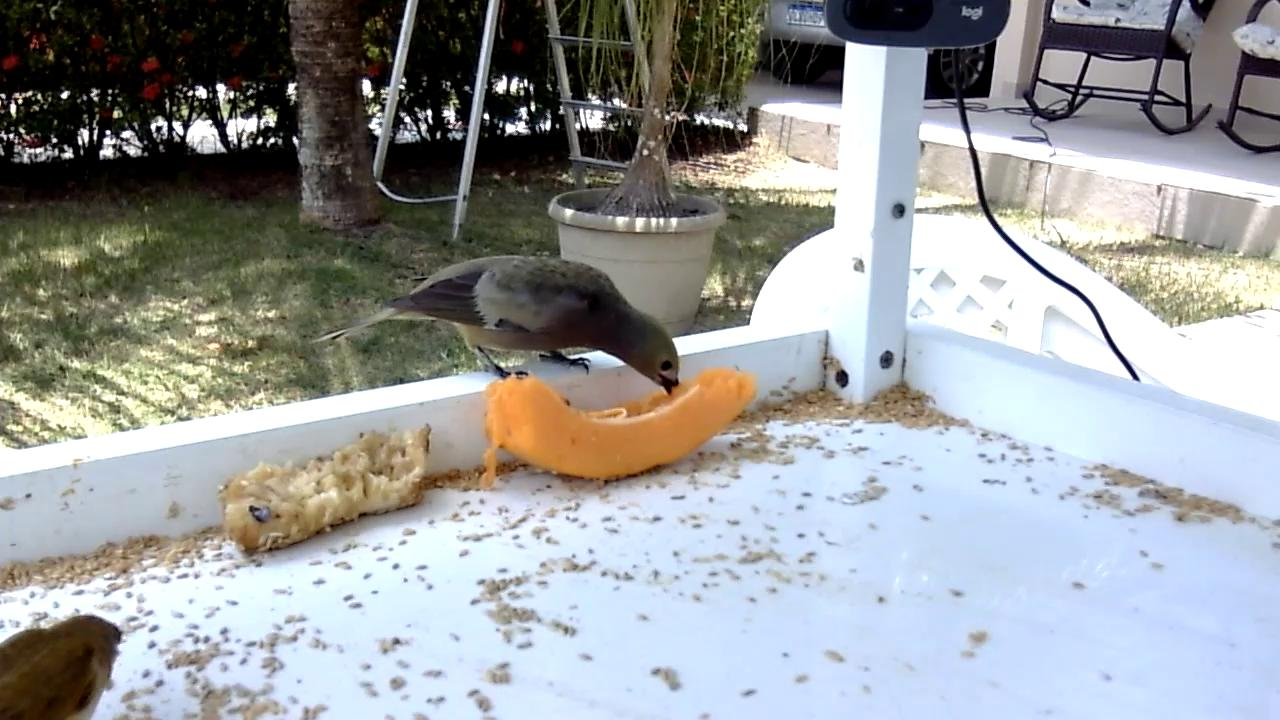canario_do_amazonas: (1, 612, 127, 720)
sanhaco_do_coqueiro: (310, 253, 684, 401)
